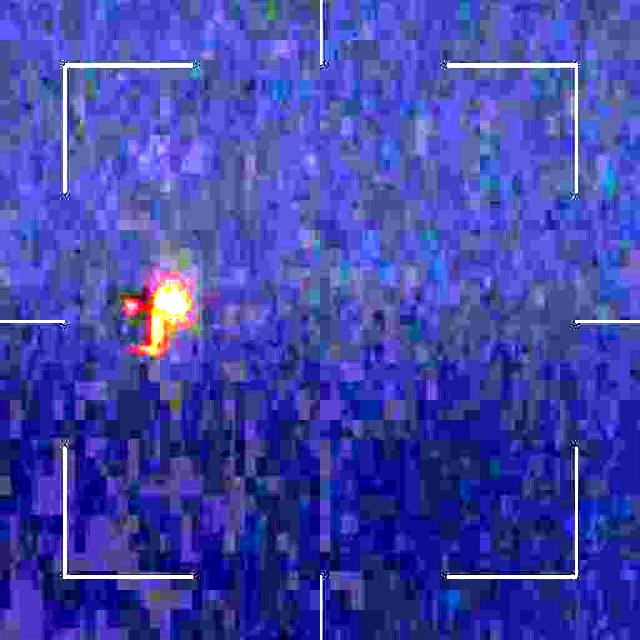bird: (110, 284, 191, 354)
